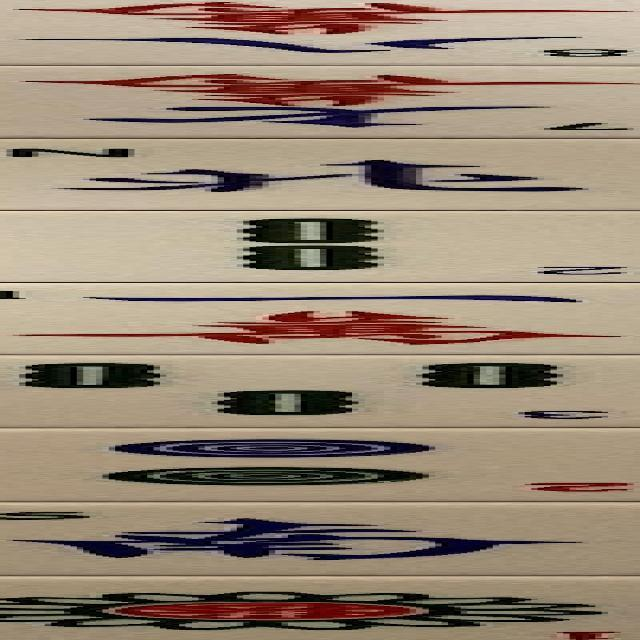hwn: (0, 138, 640, 209)
hws: (0, 502, 640, 574)
sb2: (0, 210, 640, 282)
sb3: (0, 356, 640, 426)
sc1: (0, 284, 640, 352)
sc7: (0, 66, 640, 135)
sc8: (0, 0, 640, 65)
sd1: (0, 577, 640, 640)
sd2: (0, 430, 640, 498)
